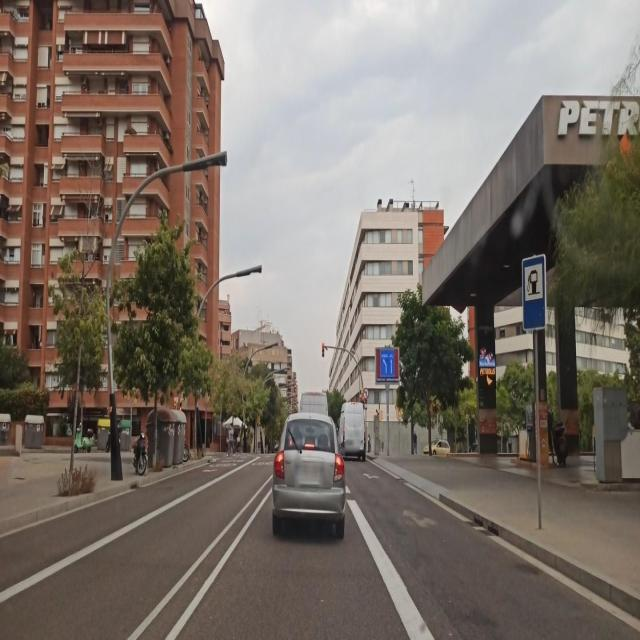car: (271, 412, 346, 540)
